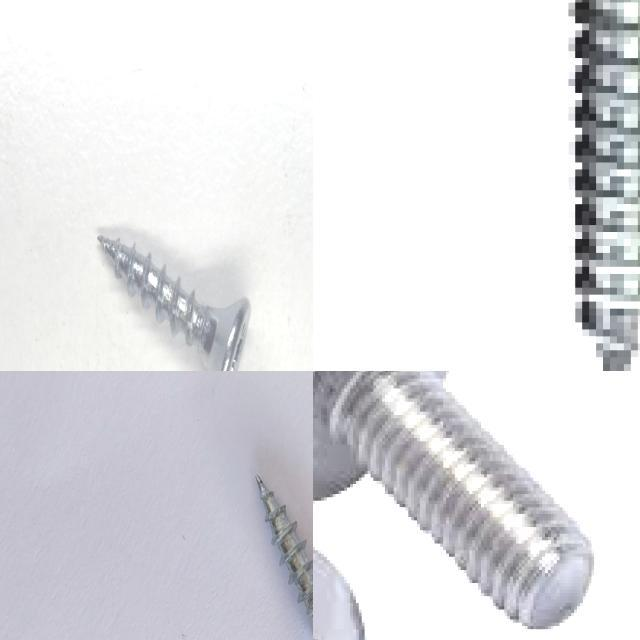Screw: (313, 371, 594, 633), (575, 0, 640, 371), (98, 234, 250, 371), (256, 474, 313, 633)
